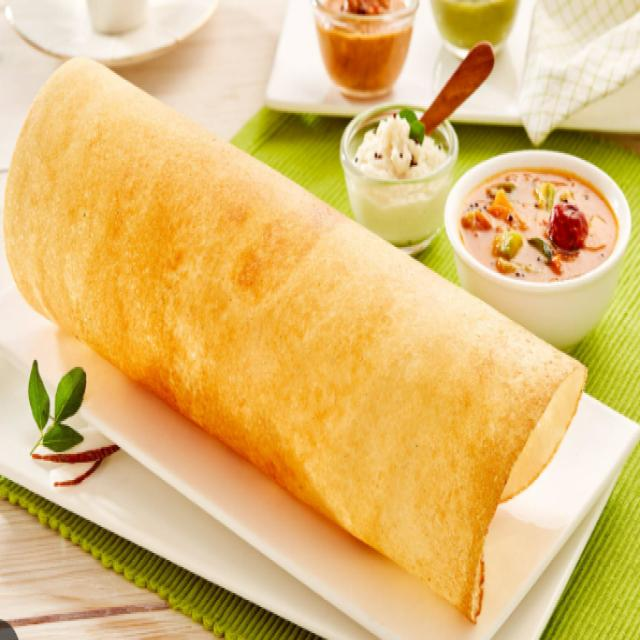dosa: (4, 64, 590, 611)
